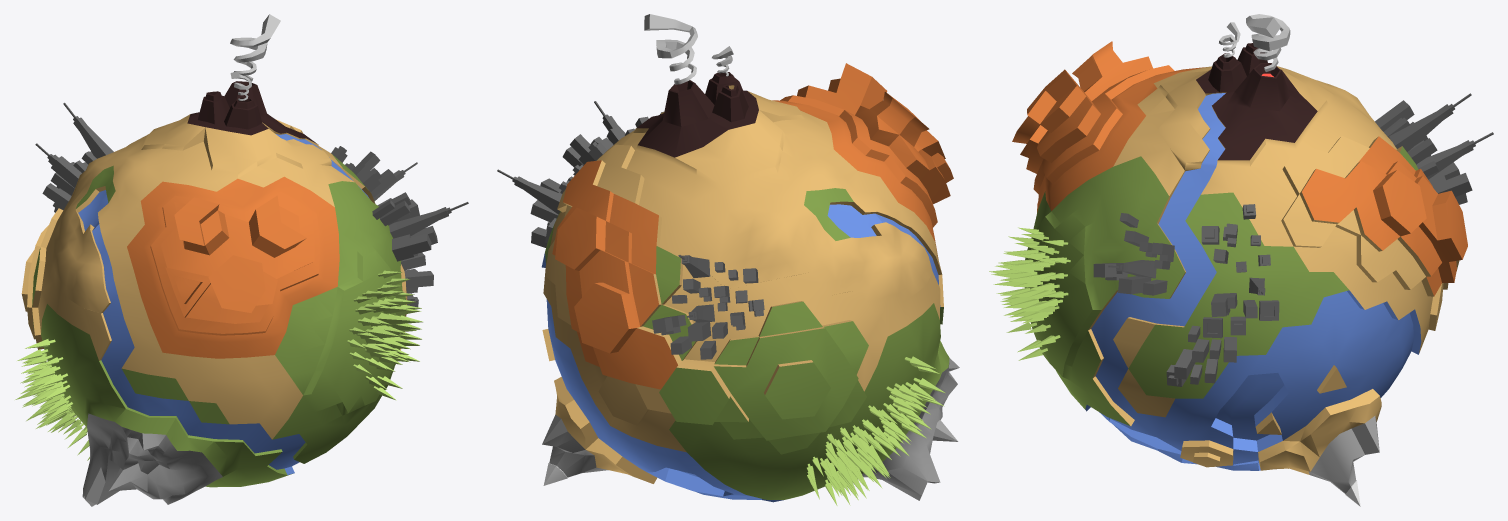
Rendered from fortnite.glb.
3 views of the same model, side by side, from view 1: azimuth 30°, elevation 25°; view 2: azimuth 150°, elevation 25°; view 3: azimuth 270°, elevation 25° (orthographic). The views are drawn at different scales.
Parts seen in each view (by area): view 1: Ground, Rocky Mountains, Grass, Forest, Mountains, City, Water, Volcano, Smoke; view 2: Ground, Grass, Rocky Mountains, City, Water, Forest, Volcano, Mountains, Smoke; view 3: Ground, Grass, Water, Rocky Mountains, City, Volcano, Forest, Mountains, Smoke.
Part boxes in pixels (x1,y1,x2,y2): Ground: (21,114,407,439); Rocky Mountains: (127,176,339,358); Grass: (32,154,406,487); Forest: (15,270,422,460); Mountains: (82,413,222,506); City: (35,102,468,307); Water: (78,134,369,474); Volcano: (187,81,316,143); Smoke: (230,14,280,100); Ground: (542,85,943,483); Grass: (545,188,949,499); Rocky Mountains: (552,63,953,389); City: (497,101,764,359); Water: (541,204,940,502); Forest: (807,356,945,505); Volcano: (636,72,758,157); Mountains: (542,358,959,500); Smoke: (644,14,733,84); Ground: (1088,66,1459,474); Grass: (1024,146,1418,425); Water: (1085,93,1421,470); Rocky Mountains: (1012,41,1467,296); City: (1093,93,1493,386); Volcano: (1196,43,1317,160); Forest: (989,227,1070,360); Mountains: (1308,416,1379,493); Smoke: (1219,14,1290,71).
Size of the model in its own units: 0.1804 by 0.1857 by 0.1801.
